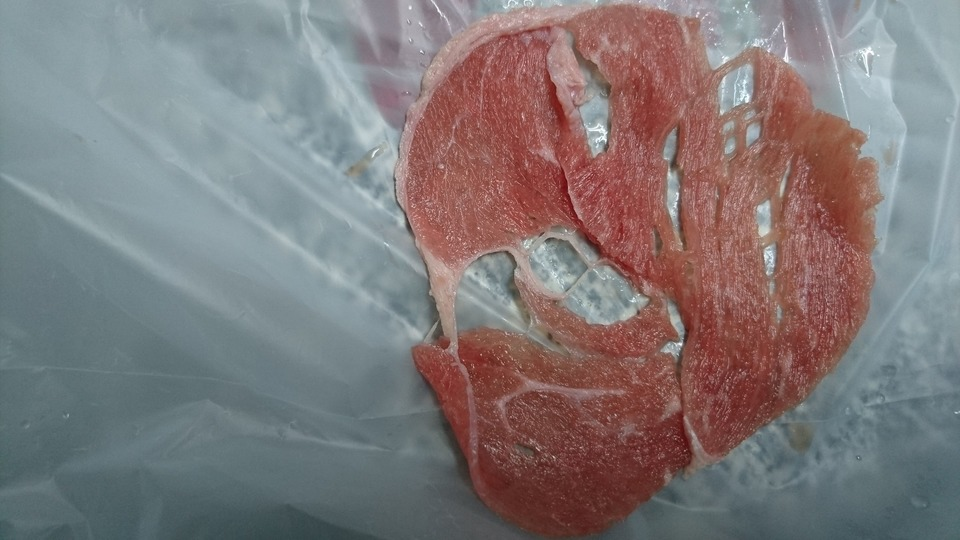restructured meat: (397, 11, 877, 537)
